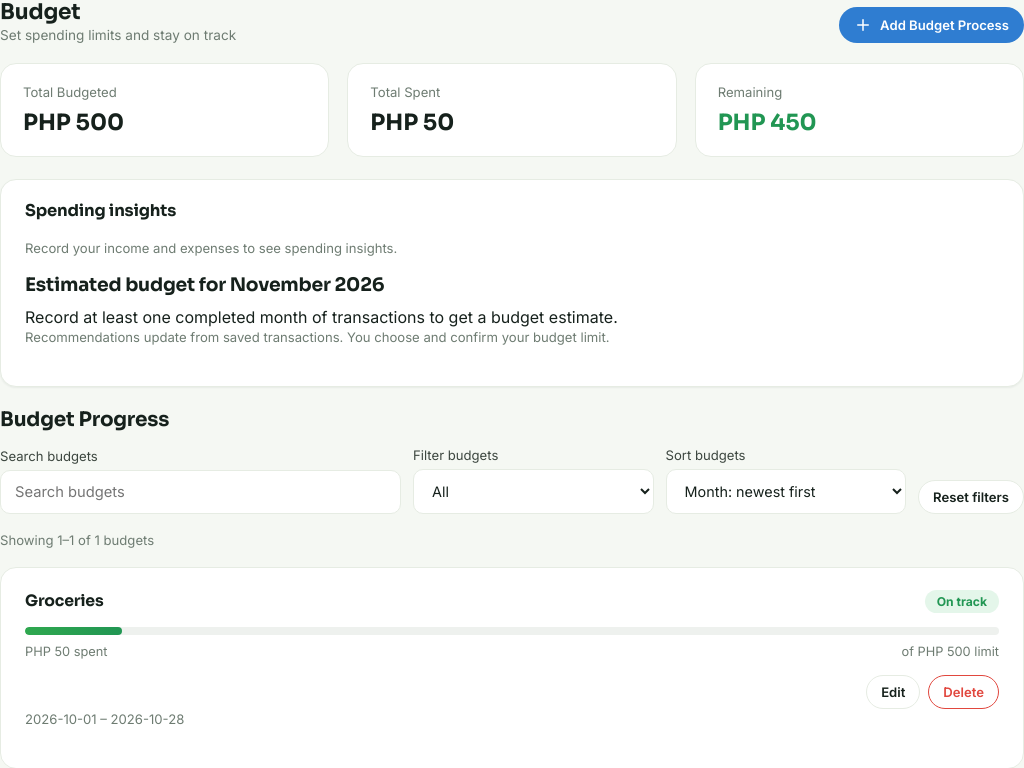
Test: requires confirmation and leaves deletion errors visible
The image size is (1024, 768).
Click the button with aria-label "Delete Groceries budget".
click(964, 692)  # box top-left (928, 675), bottom-right (999, 709)
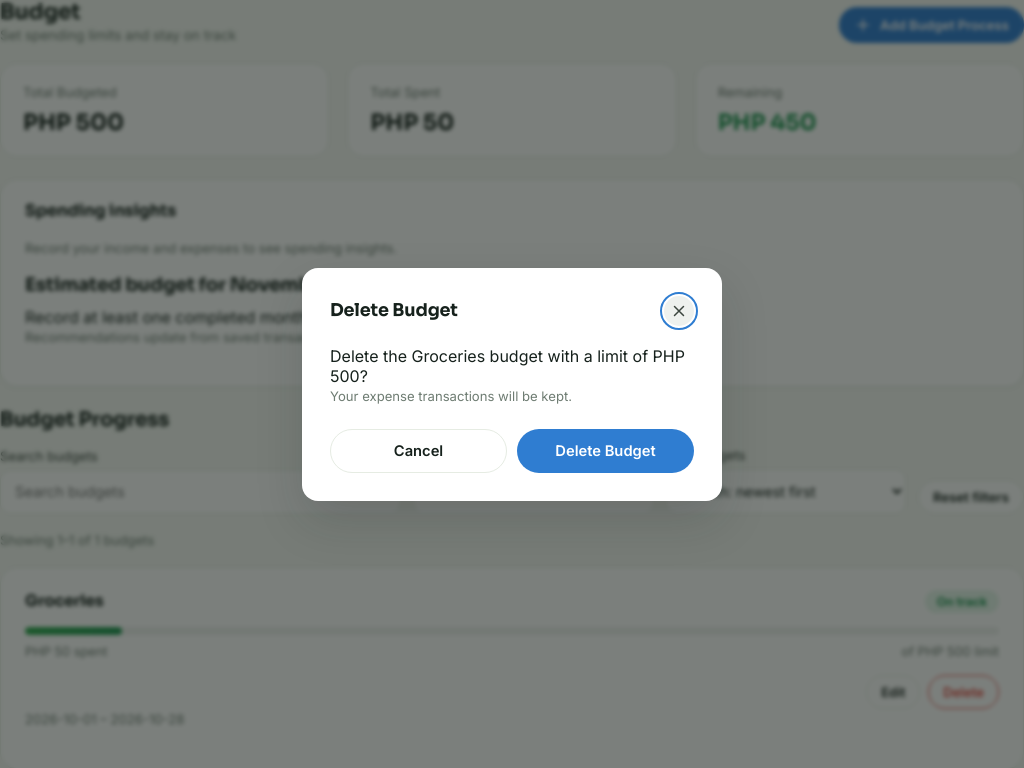
Click the button "Delete Budget".
click(606, 450)  # box top-left (517, 428), bottom-right (694, 472)
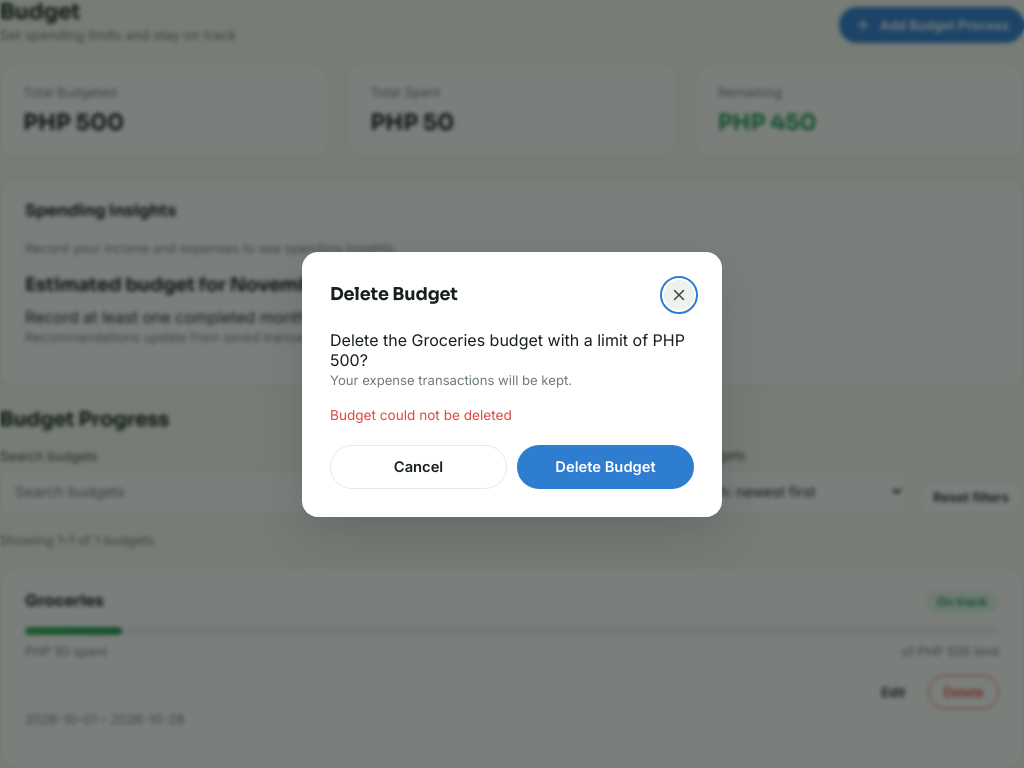
Result: the dialog is shown at top-left (302, 252), bottom-right (722, 516)
Result: the message reads "Budget could not be deleted" at top-left (330, 406), bottom-right (512, 422)
